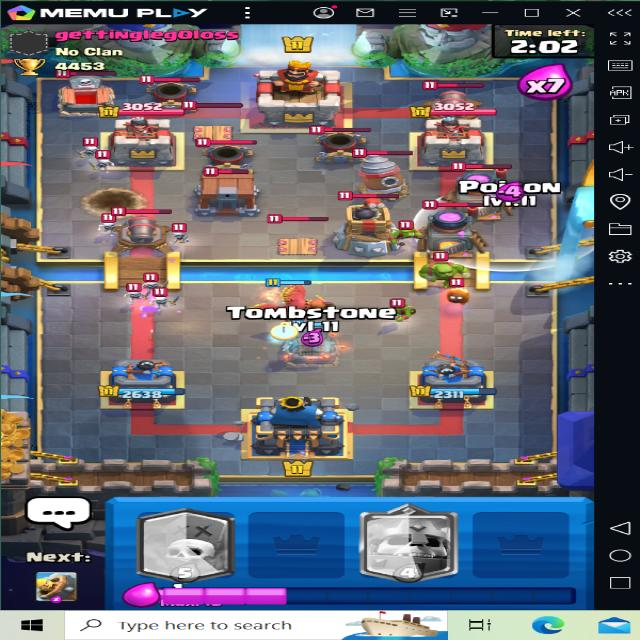bomb-tower: (335, 187, 412, 255)
brawler: (419, 254, 473, 286)
cannon: (418, 78, 490, 122), (107, 207, 168, 251)
fire-spirit: (446, 282, 484, 306)
furnace: (443, 158, 525, 225), (416, 196, 493, 258)
goblin: (389, 292, 420, 320), (390, 218, 421, 240)
goblin-cage: (194, 166, 266, 212)
goblin-drill: (341, 147, 415, 200)
mortar: (140, 65, 207, 111), (307, 123, 370, 166), (194, 138, 257, 168)
skeleton: (161, 223, 192, 245), (148, 286, 178, 308), (135, 271, 164, 292), (118, 284, 150, 302), (87, 216, 120, 233), (79, 138, 99, 157), (92, 154, 116, 168)
tesla-closed: (174, 97, 247, 145), (264, 212, 330, 256)
tombstone: (48, 60, 128, 116)
